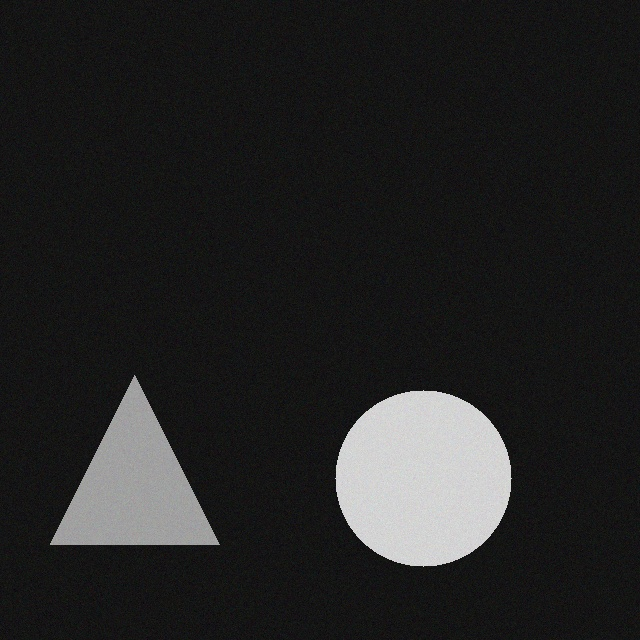circle: (322, 376, 498, 552)
triangle: (37, 361, 206, 530)
